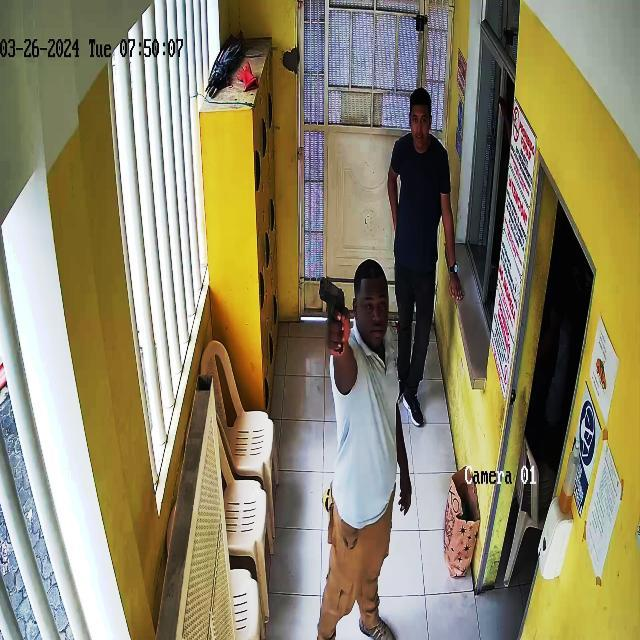Gun: (310, 272, 348, 356)
